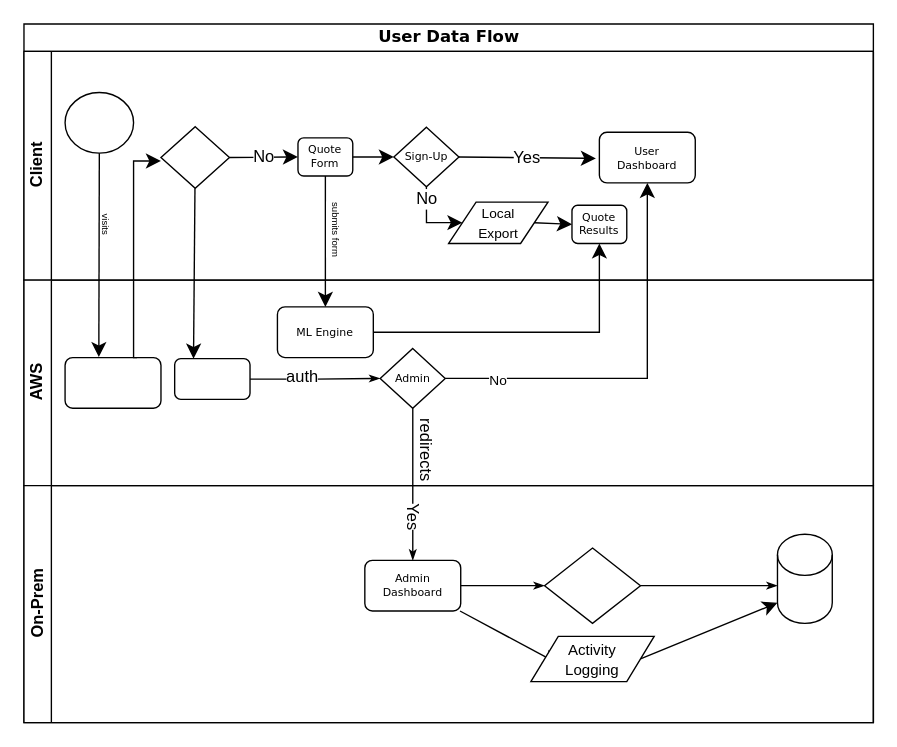
Some shapes in this 897 by 747 pixel diagram are drawn without their labels. The shapes that lost their labels are listed below. From the top down, each one's centre as x and y in pixels, then its label:
the point at 99,122: Host
the point at 194,156: Returning User
the point at 112,382: GuardQuote App
the point at 211,378: User Login
the point at 591,585: SIEM
the point at 804,578: DB
